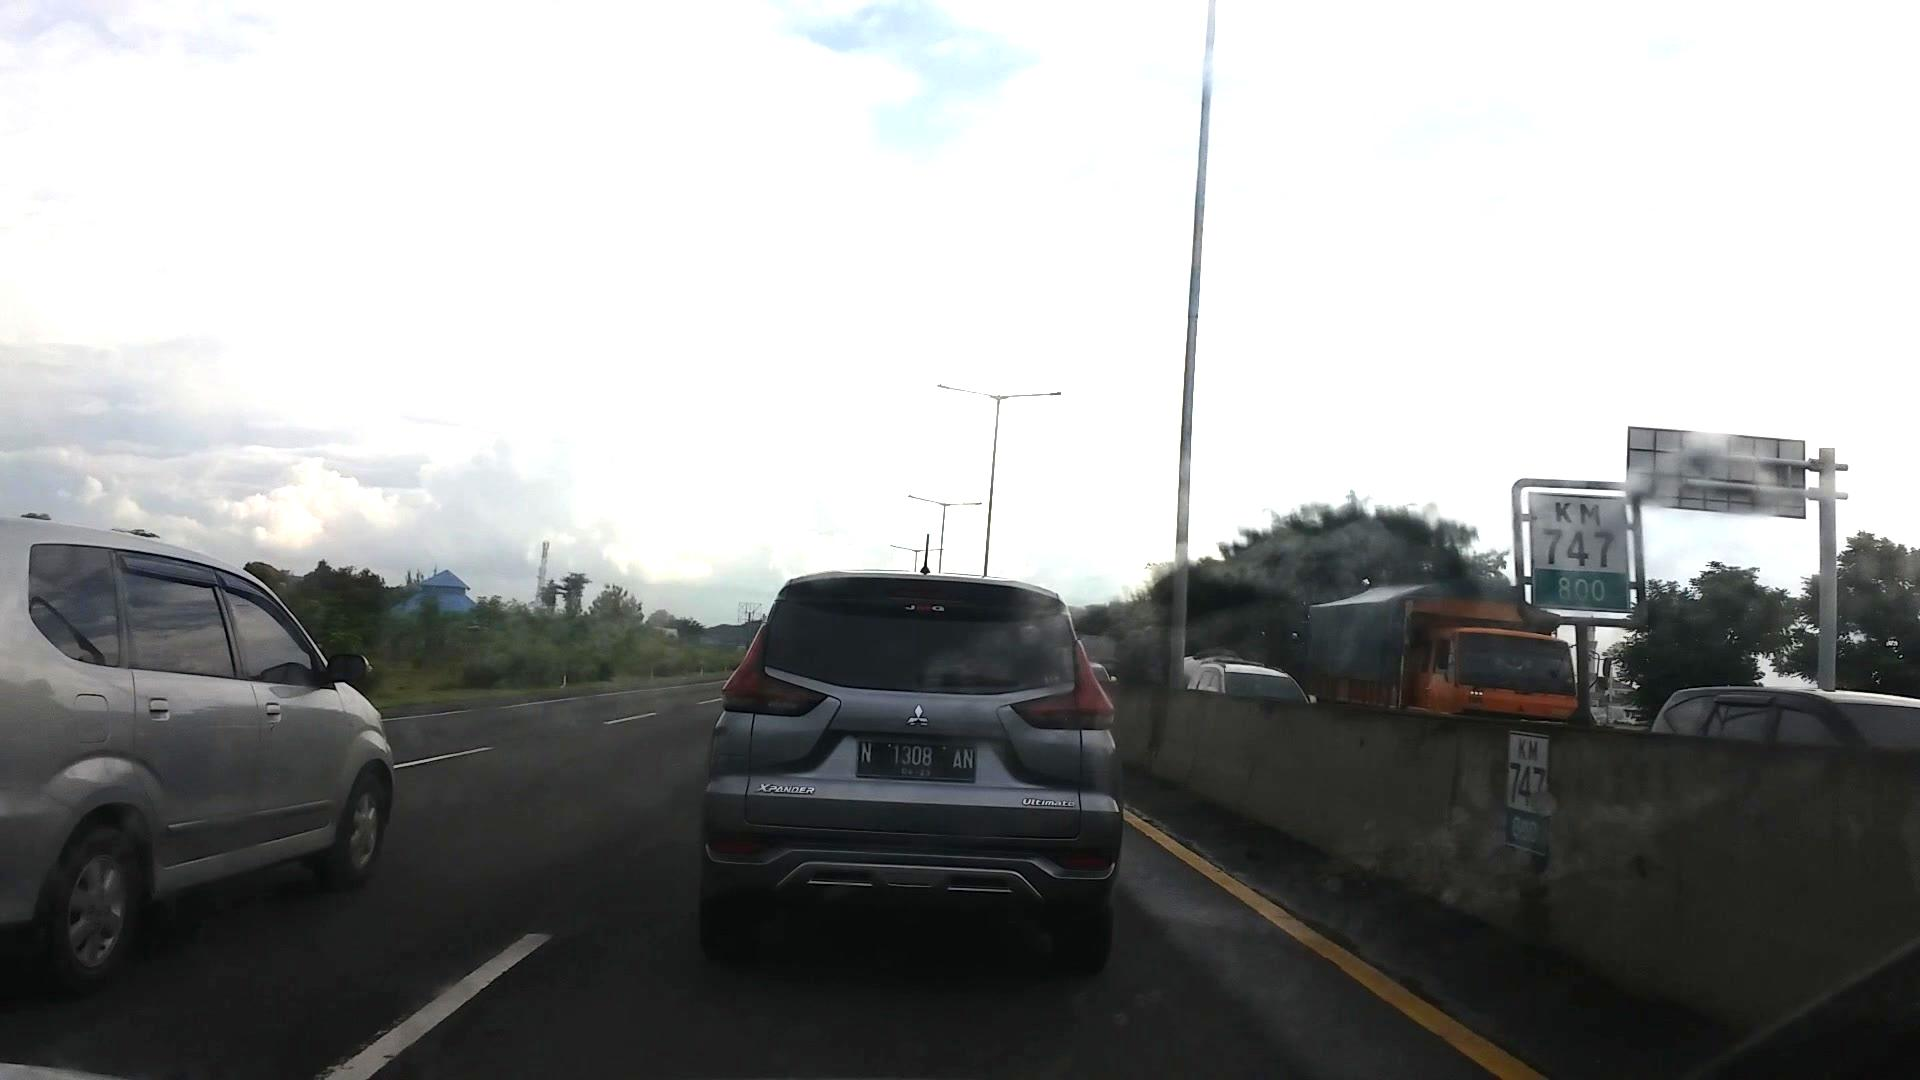plate_positive: (856, 738, 976, 782)
